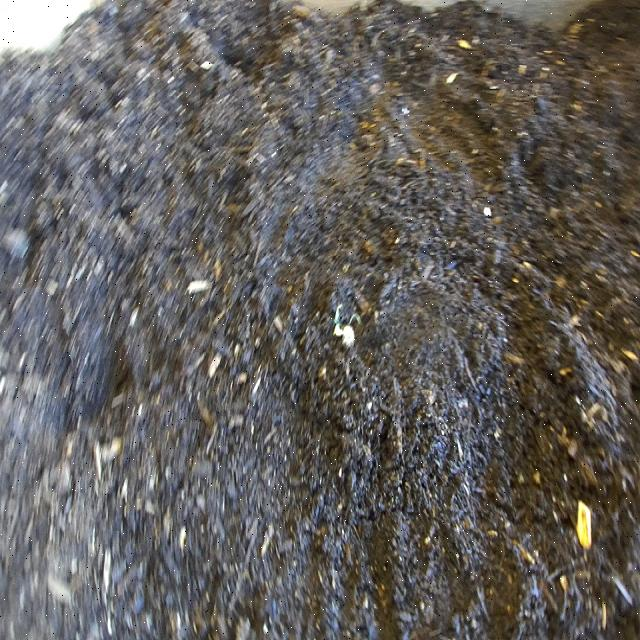Unhealthy: (329, 298, 365, 358)
